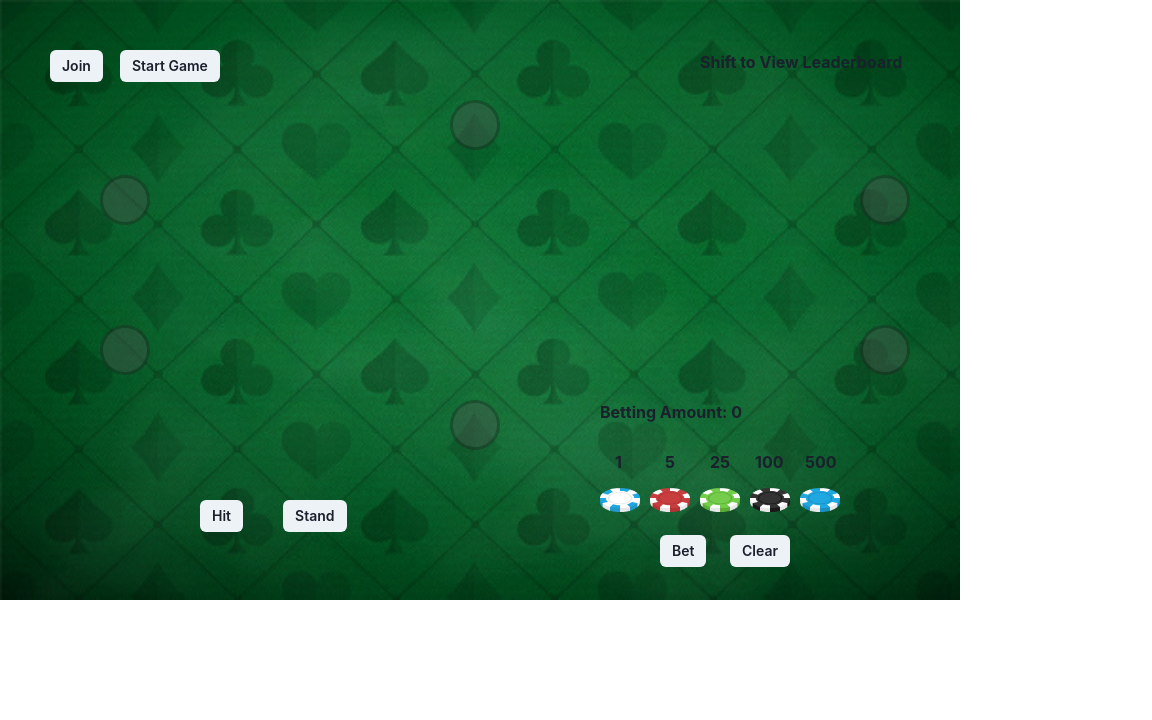
Scenario: Blackjack Modal › Bridging events from the GamingAreaController to the ReactPlayer › When clicking Join button on Blackjack game › join button changes to a leave button
Expected: the text "Leave" is not shown
Click the button "Join" at (76, 66), box [50, 50, 103, 82]
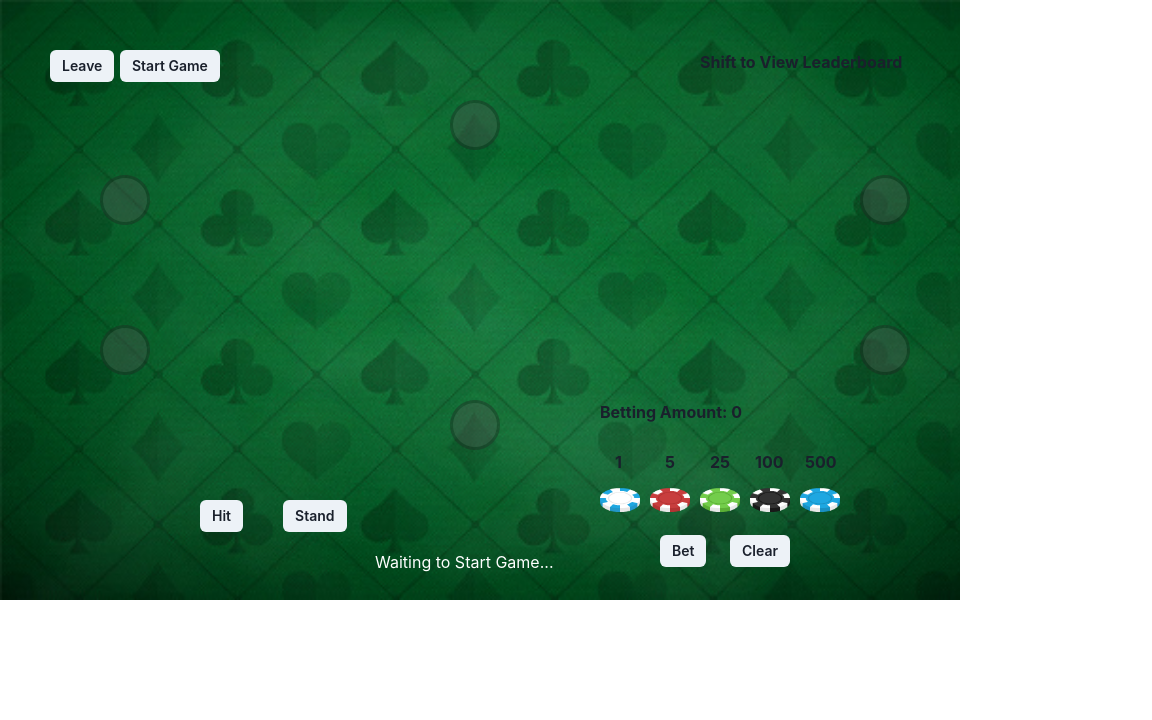
Expected: the button "Join" is gone
Expected: the button "Leave" is shown, [50, 50, 114, 82]
